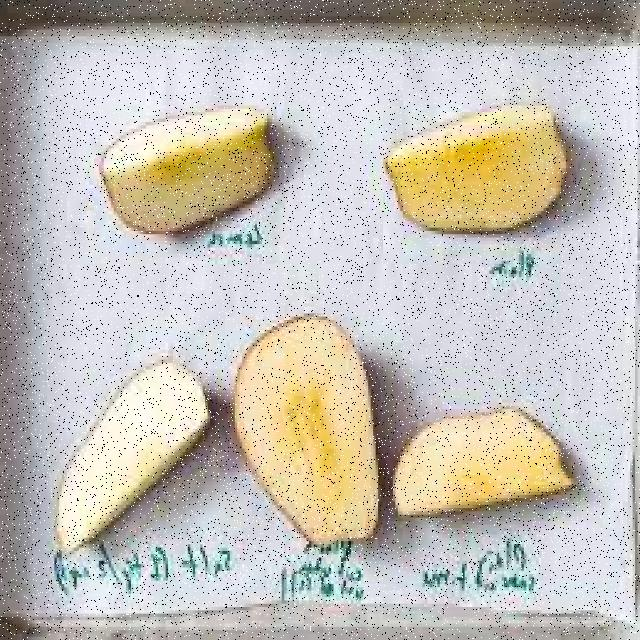Apple: (234, 315, 380, 544), (54, 362, 211, 549), (384, 105, 565, 234), (100, 108, 278, 234), (391, 408, 577, 521)
